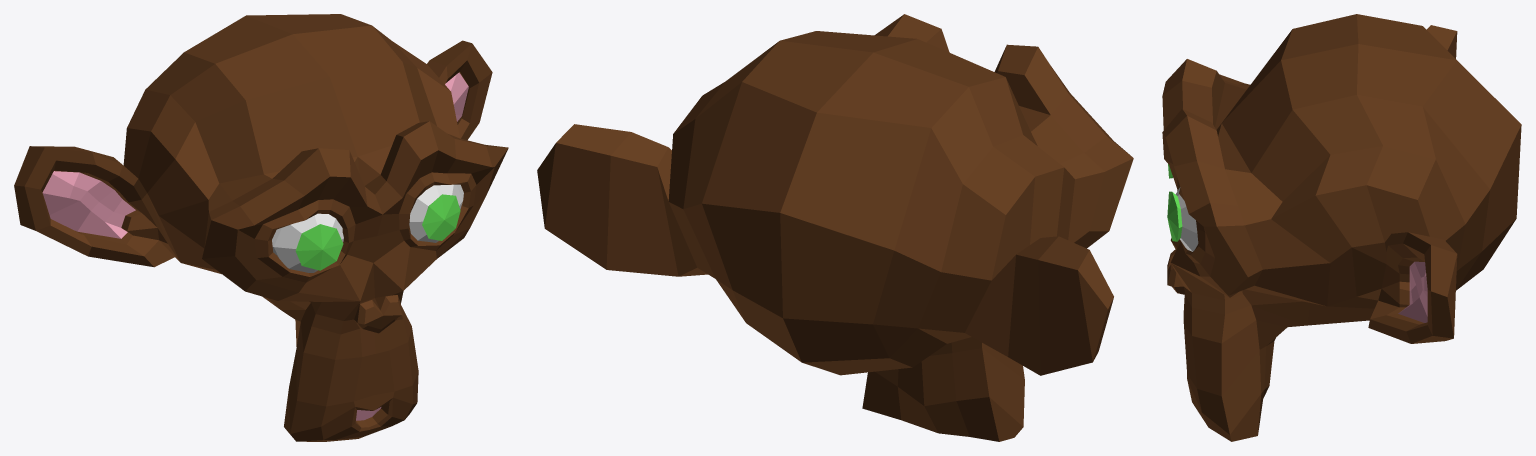
The model's file is suzy.glb.
The picture shows the model from 3 angles, left to right: view 1: azimuth 30°, elevation 25°; view 2: azimuth 150°, elevation 25°; view 3: azimuth 270°, elevation 25°; orthographic projection. The views are drawn at different scales.
Parts seen in each view (by area): view 1: Suzanne; view 2: Suzanne; view 3: Suzanne.
Boxes of the visible parts, x1,y1,x2,y2 form: Suzanne: (14, 14, 508, 441); Suzanne: (537, 14, 1133, 441); Suzanne: (1162, 14, 1521, 441).
Bounding box in the file's own units: 2.73 × 1.97 × 1.7.
